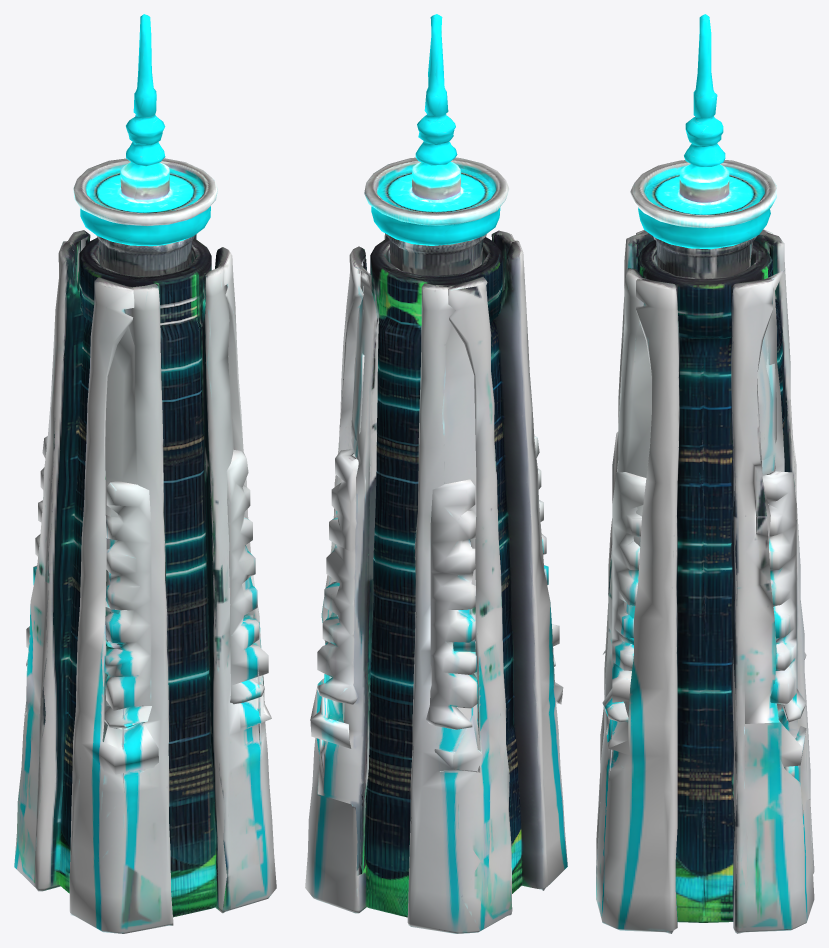
Rendered from futuristic-building-a.glb.
3 views of the same model, side by side, from view 1: azimuth 30°, elevation 25°; view 2: azimuth 150°, elevation 25°; view 3: azimuth 270°, elevation 25° (orthographic).
Bounding box in the file's own units: 0.4266 × 1.91 × 0.4305.
Materials: 1 (1 with a texture image).
